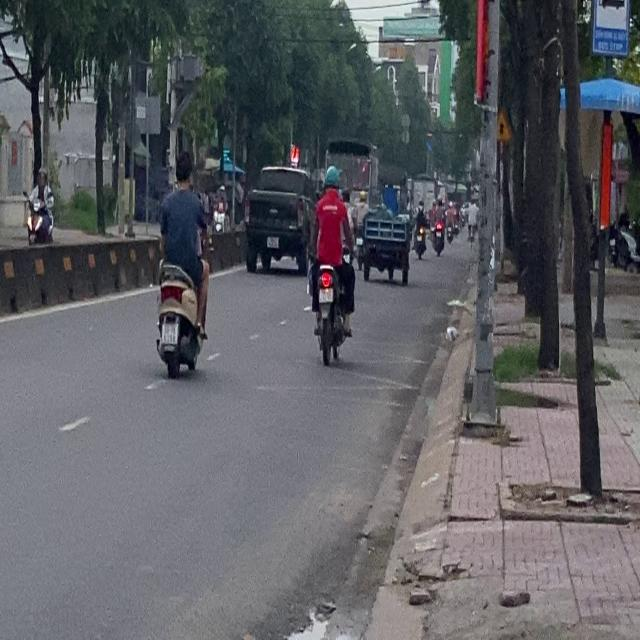helmet: (322, 164, 340, 193)
licenseplate: (152, 149, 211, 377), (306, 163, 356, 363)
motorcyclist: (173, 150, 193, 187)
nohelmet: (161, 322, 177, 342), (319, 286, 332, 302)
